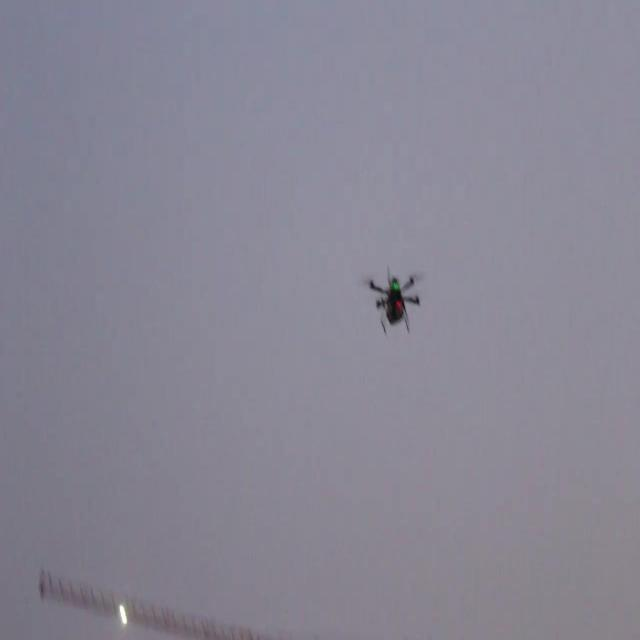UAV: (364, 265, 420, 336)
